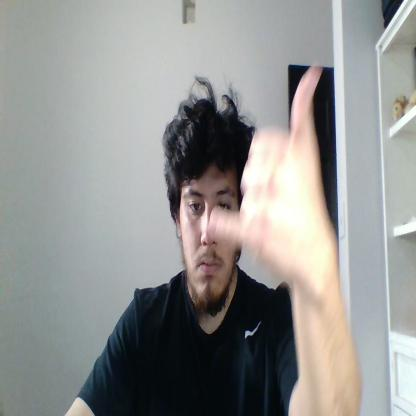Y: (209, 65, 331, 282)
